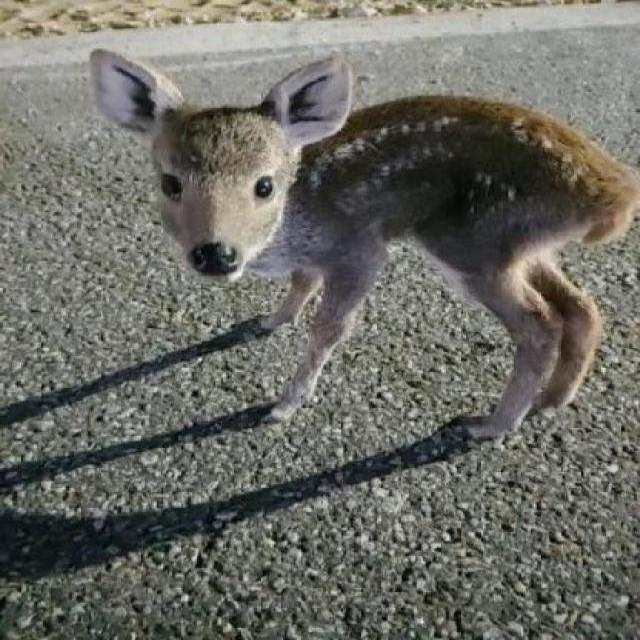deer: (61, 21, 640, 491)
